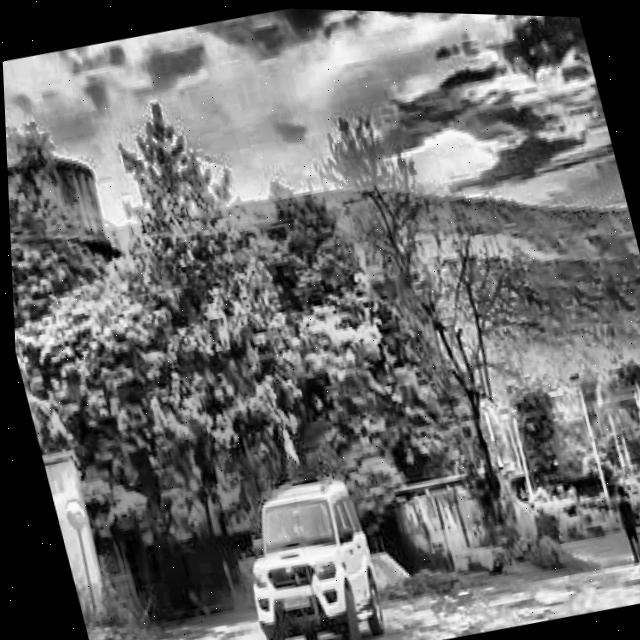light_vehicle: (223, 468, 387, 640)
